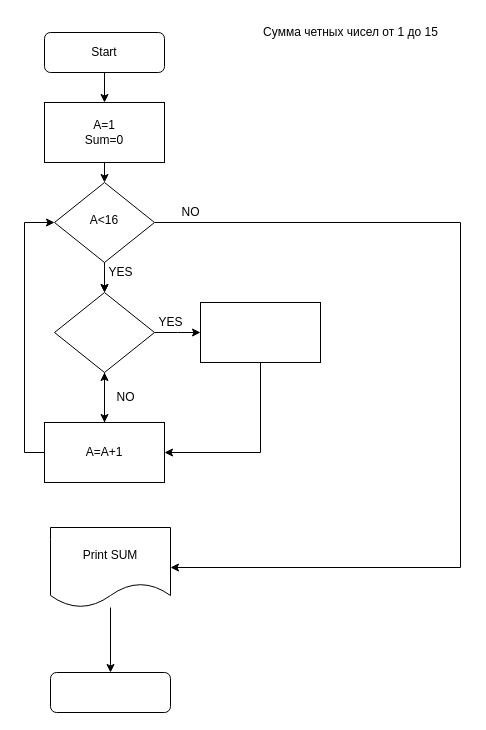
This 486x730 diagram has some shape labels left out. The shapes that lost their labels are listed below. From the top down, each one's centre as x and y in pixels, then its label:
the point at 104,332: A четное?
the point at 260,332: SUM=SUM+A
the point at 110,692: Stop
